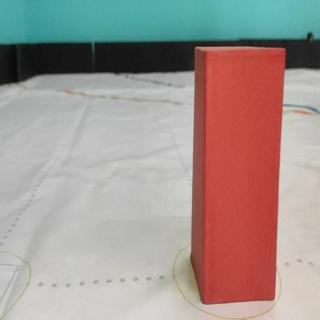redbox: (191, 45, 286, 305)
